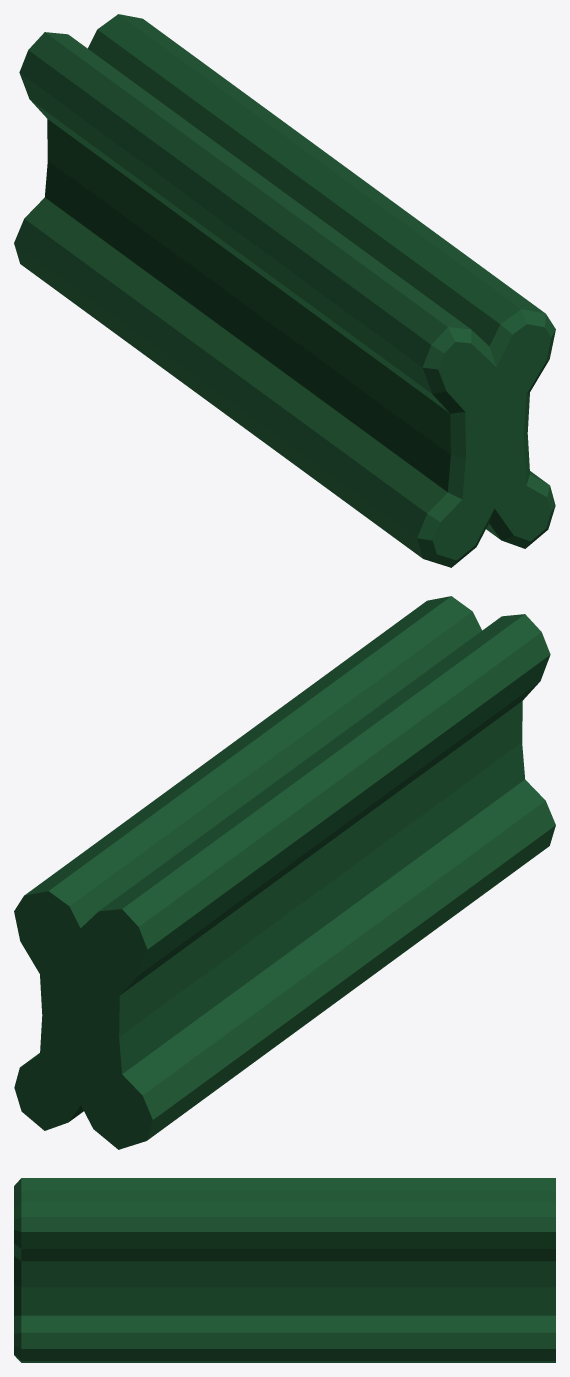
File: Bone.fbx
The picture shows the model from 3 angles, top to bottom: view 1: azimuth 30°, elevation 25°; view 2: azimuth 150°, elevation 25°; view 3: azimuth 270°, elevation 25°; orthographic projection. The views are drawn at different scales.
Visible parts, largest first — view 1: Bone; view 2: Bone; view 3: Bone.
Boxes of the visible parts, left/top/right/bottom form: Bone: left=14, top=14, right=555, bottom=567; Bone: left=14, top=596, right=555, bottom=1149; Bone: left=14, top=1178, right=555, bottom=1362.
Size of the model in its own units: 58.08 by 96.57 by 296.
